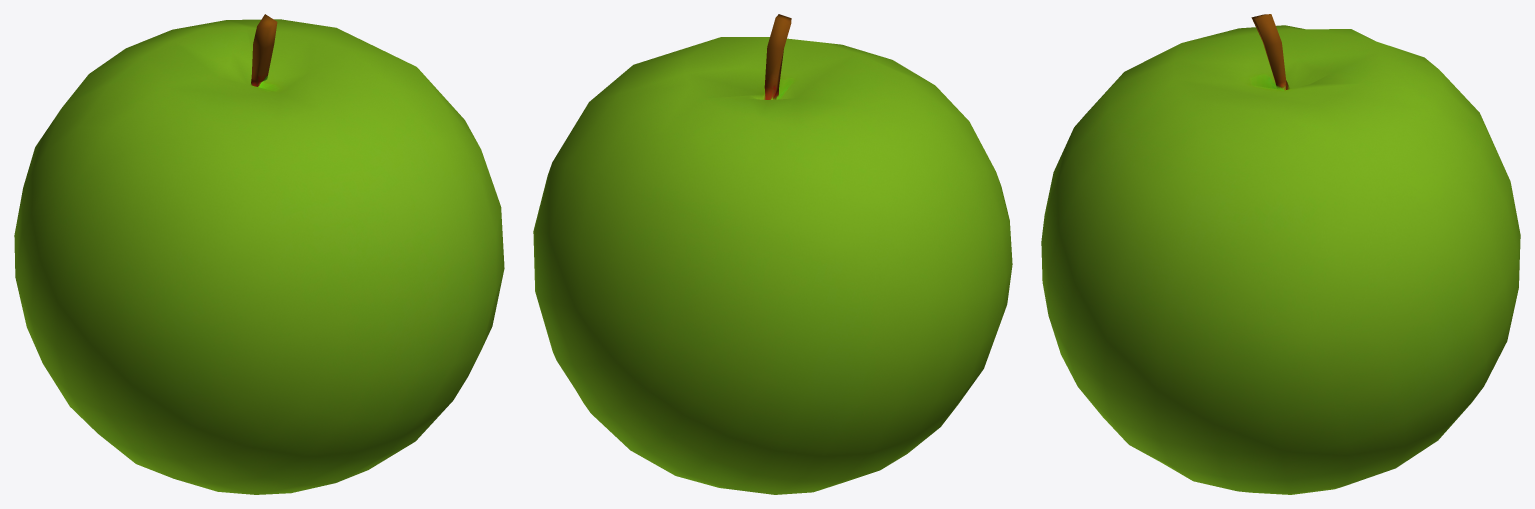
File: green-apple-300T.fbx
The picture shows the model from 3 angles, left to right: view 1: azimuth 30°, elevation 25°; view 2: azimuth 150°, elevation 25°; view 3: azimuth 270°, elevation 25°; orthographic projection. The views are drawn at different scales.
Visible parts, largest first — view 1: tripo_node_254169cf; view 2: tripo_node_254169cf; view 3: tripo_node_254169cf.
Boxes of the visible parts, box(x1,y1,x2,y2) form: tripo_node_254169cf: box(14, 14, 504, 494); tripo_node_254169cf: box(533, 14, 1012, 494); tripo_node_254169cf: box(1041, 14, 1520, 494).
Size of the model in its own units: 0.9825 by 0.9979 by 0.9645.
1 material, 1 textured.
